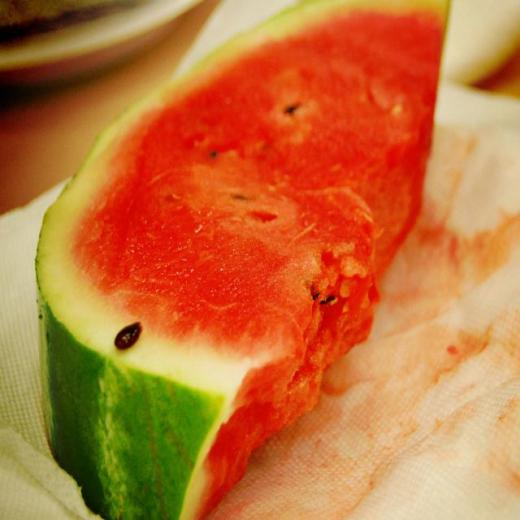Cherry: (36, 1, 453, 520)
